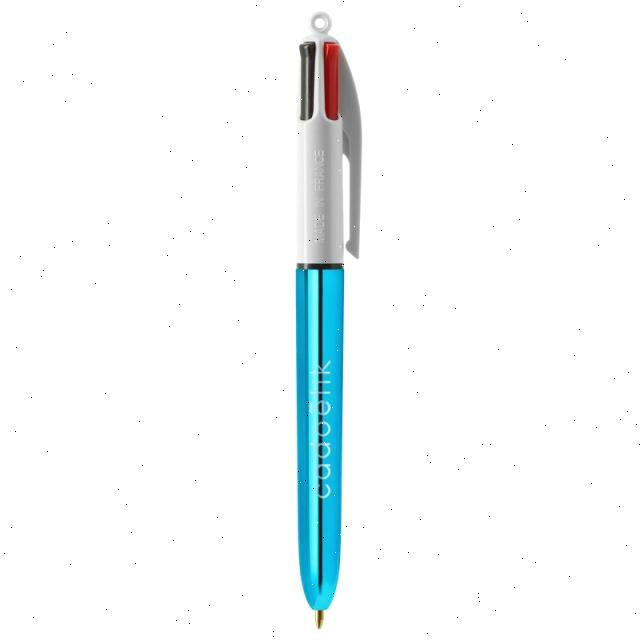pen: (292, 9, 362, 628)
